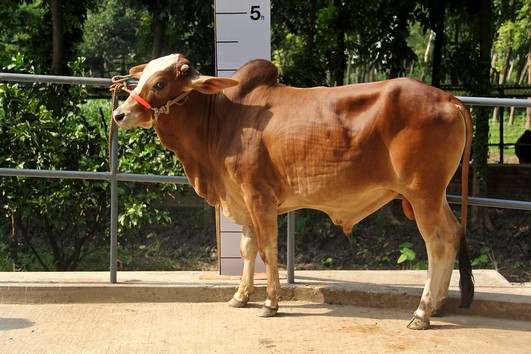cow: (104, 43, 479, 334)
